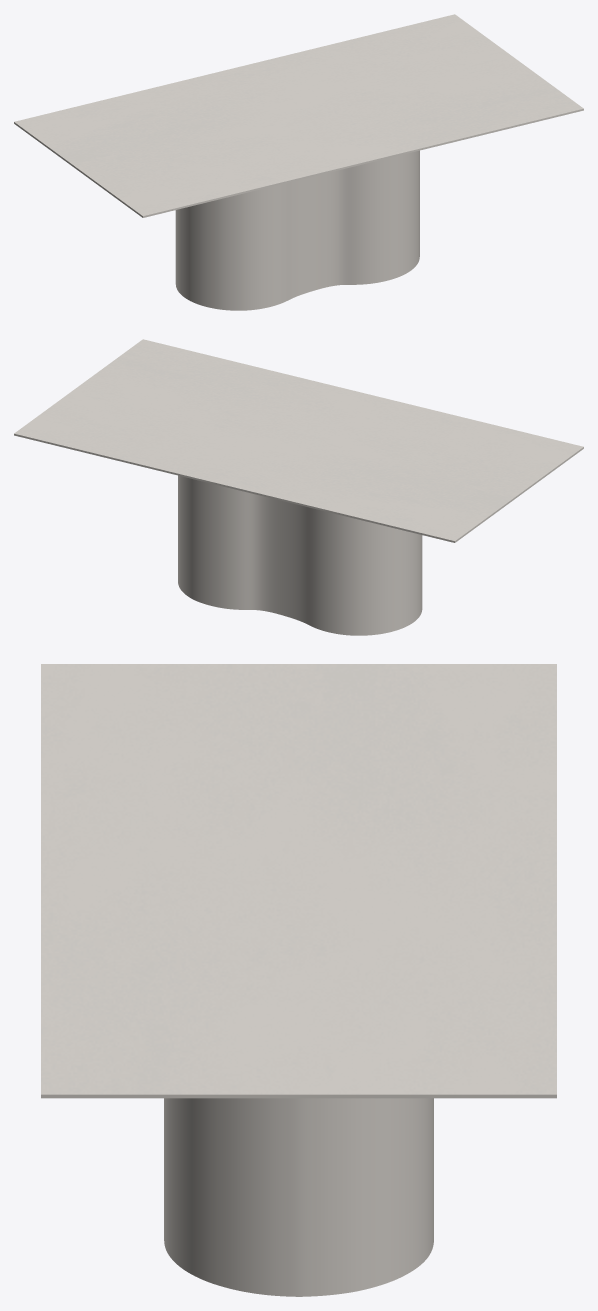
Rendered from pearlwhite_recta_facet_riverwave.glb.
The picture shows the model from 3 angles, top to bottom: view 1: azimuth 30°, elevation 25°; view 2: azimuth 150°, elevation 25°; view 3: azimuth 270°, elevation 25°; orthographic projection. The views are drawn at different scales.
Visible parts, largest first — view 1: facet_recta, riverwave; view 2: facet_recta, riverwave; view 3: facet_recta, riverwave.
Part boxes in pixels (left/top/right/bottom): facet_recta: left=14, top=14, right=583, bottom=217; riverwave: left=175, top=150, right=419, bottom=310; facet_recta: left=14, top=339, right=583, bottom=542; riverwave: left=178, top=475, right=422, bottom=635; facet_recta: left=41, top=664, right=556, bottom=1098; riverwave: left=164, top=1098, right=433, bottom=1296.
Size of the model in its own units: 7.5 by 2.51 by 3.8.
Materials: 1 (1 with a texture image).
